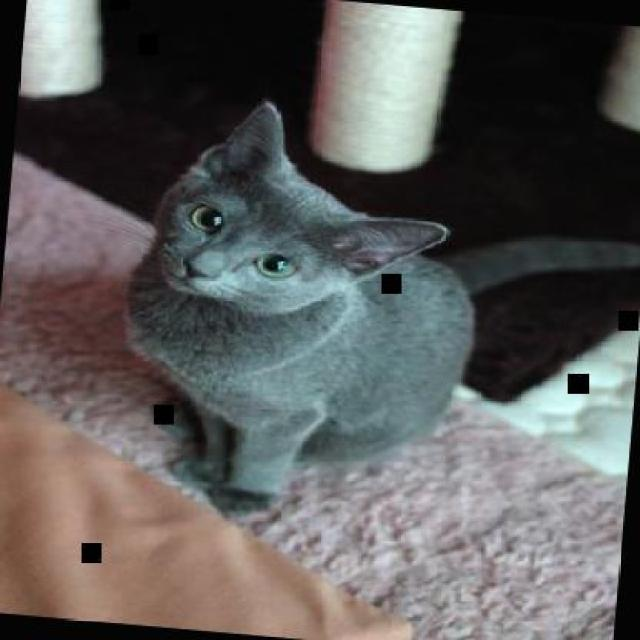cat: (101, 90, 638, 558)
